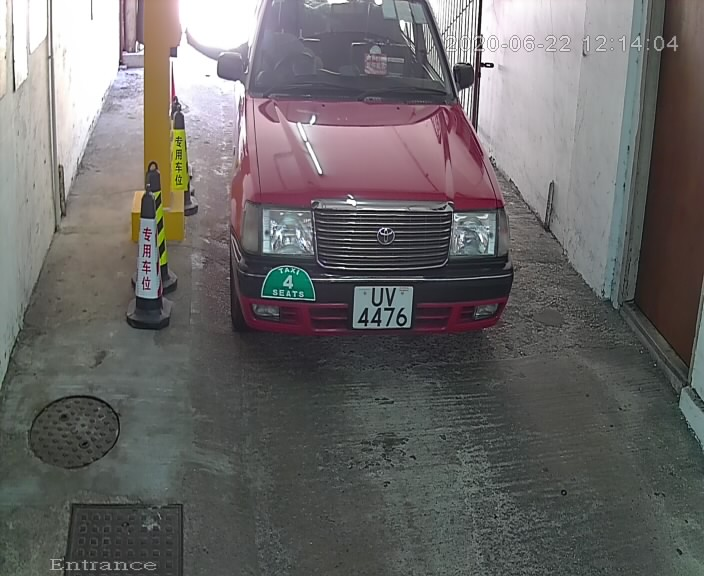taxi: (208, 1, 518, 361)
taxi_mark: (250, 253, 333, 316)
